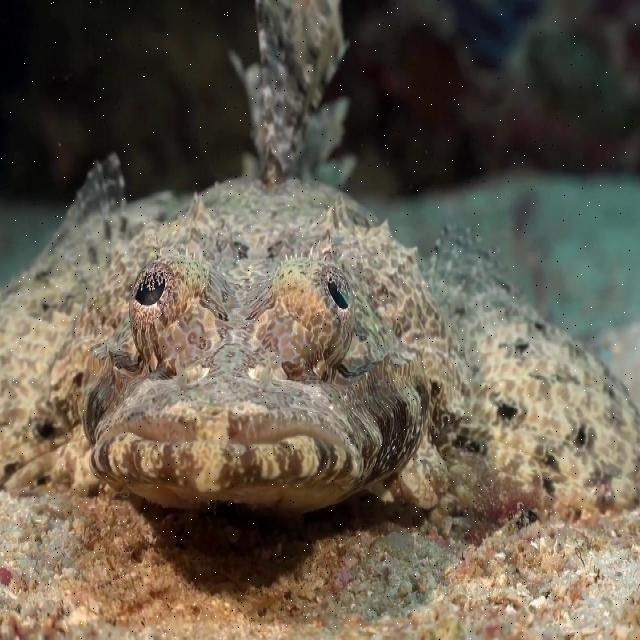fish: (0, 0, 639, 515)
